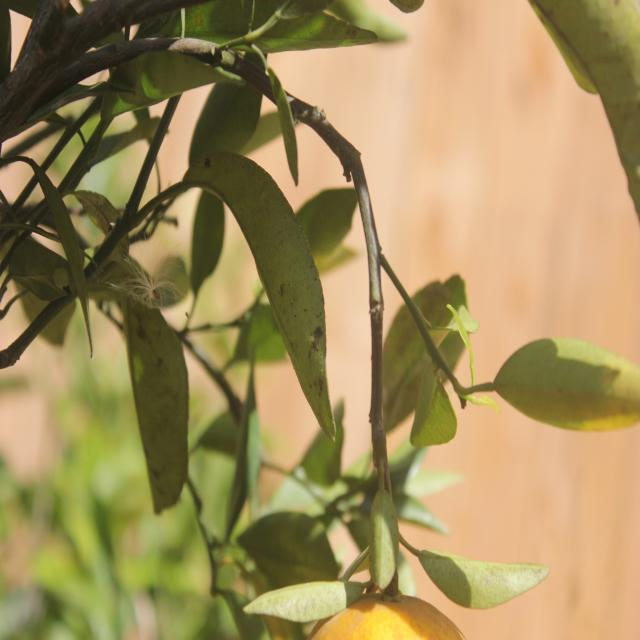melanose: (198, 131, 340, 444), (119, 288, 196, 522)
